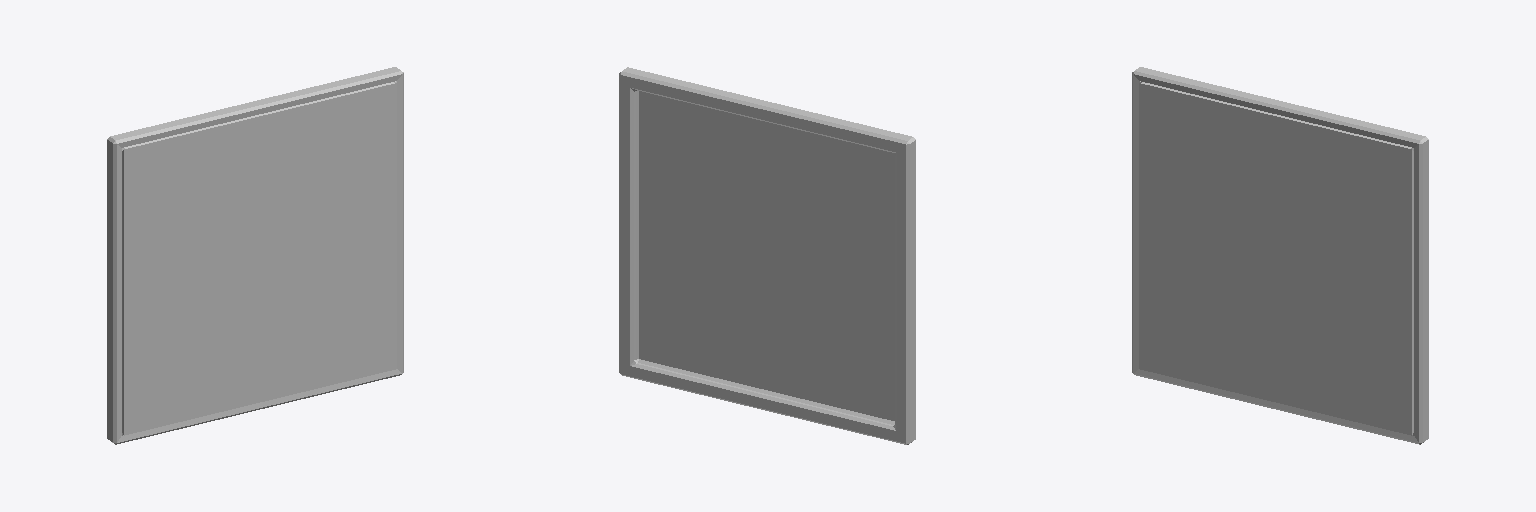
Rendered from panel_2x2_inset.obj.
The picture shows the model from 3 angles: view 1: azimuth 30°, elevation 25°; view 2: azimuth 150°, elevation 25°; view 3: azimuth 330°, elevation 25°; orthographic projection.
Visible parts, largest first — view 1: 2x2_black_geo.001; view 2: 2x2_black_geo.001; view 3: 2x2_black_geo.001.
Part boxes in pixels (bbox=[...]): 2x2_black_geo.001: bbox=[107, 67, 403, 444]; 2x2_black_geo.001: bbox=[619, 67, 915, 444]; 2x2_black_geo.001: bbox=[1132, 67, 1428, 444].
Bounding box in the file's own units: 1.98 × 1.98 × 0.1077.